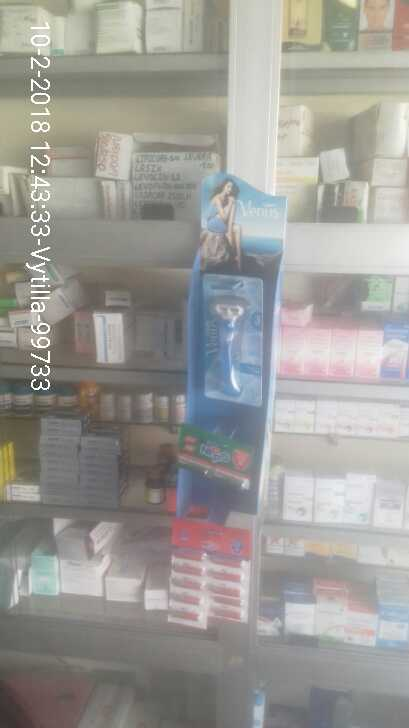venus: (200, 268, 273, 410)
